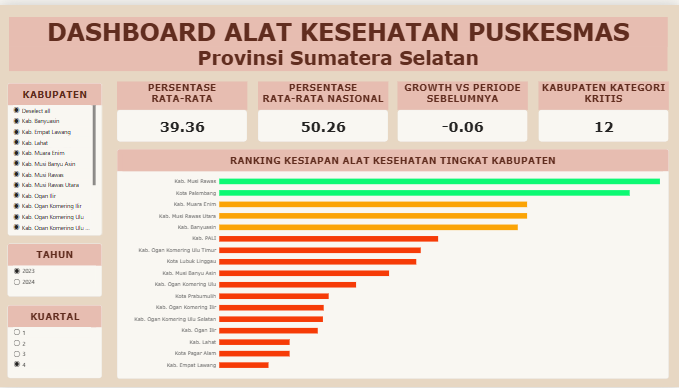

The page's visual inventory and layout, read from the dashboard file:
{"tool":"powerbi","page":{"name":"Page 2","canvas":[1920,1080],"ordinal":1},"visuals":[{"type":"textbox","title":"DASHBOARD ALAT KESEHATAN PUSKESMAS","box":[25.4,33.9,1859.3,152.5],"z":0},{"type":"listSlicer","title":"KUARTAL","fields":{"Values":["public alkes.Periode"]},"box":[22.7,847.6,266.5,206.9],"z":1000},{"type":"cardVisual","title":"PERSENTASE RATA-RATA","fields":{"Data":["public alkes.Skor rata-rata"]},"box":[328.4,217.6,367.9,170.1],"z":2000},{"type":"cardVisual","title":"PERSENTASE RATA-RATA NASIONAL","fields":{"Data":["public alkes.Skor rata-rata"]},"box":[727.9,217.6,367.9,170.1],"z":3000},{"type":"cardVisual","title":"GROWTH VS PERIODE  SEBELUMNYA","fields":{"Data":["public alkes.Growth_PoP%"]},"box":[1123.5,217.6,367.9,170.1],"z":4000},{"type":"clusteredBarChart","title":"RANKING KESIAPAN ALAT KESEHATAN TINGKAT KABUPATEN ","fields":{"Category":["public alkes.Nama_Wilayah"],"Y":["public alkes.Skor rata-rata"]},"box":[328.7,408.2,1557.7,648.9],"z":5000},{"type":"listSlicer","title":"TAHUN","fields":{"Values":["public alkes.Tahun"]},"box":[22.7,674.7,266.5,150.2],"z":6000},{"type":"listSlicer","title":"KABUPATEN","fields":{"Values":["public alkes.Nama_Wilayah"]},"box":[22.7,218.3,266.5,430.9],"z":7000},{"type":"cardVisual","title":"KABUPATEN KATEGORI KRITIS","fields":{"Data":["public alkes.Jumlah_Kabupaten_kritis"]},"box":[1519.1,217.6,367.9,170.1],"z":8000}]}

Visuals, with their boxes in screenshot pixels (x1, y1, x2, y2), scaled from the page's 1920x1080 canvas onto the 679x388 screenshot:
"DASHBOARD ALAT KESEHATAN PUSKESMAS" textbox: bbox=(9, 12, 667, 67)
"KUARTAL" listSlicer: bbox=(8, 305, 102, 379)
"PERSENTASE RATA-RATA" cardVisual: bbox=(116, 78, 246, 139)
"PERSENTASE RATA-RATA NASIONAL" cardVisual: bbox=(257, 78, 388, 139)
"GROWTH VS PERIODE  SEBELUMNYA" cardVisual: bbox=(397, 78, 527, 139)
"RANKING KESIAPAN ALAT KESEHATAN TINGKAT KABUPATEN " clusteredBarChart: bbox=(116, 147, 667, 380)
"TAHUN" listSlicer: bbox=(8, 242, 102, 296)
"KABUPATEN" listSlicer: bbox=(8, 78, 102, 233)
"KABUPATEN KATEGORI KRITIS" cardVisual: bbox=(537, 78, 667, 139)
